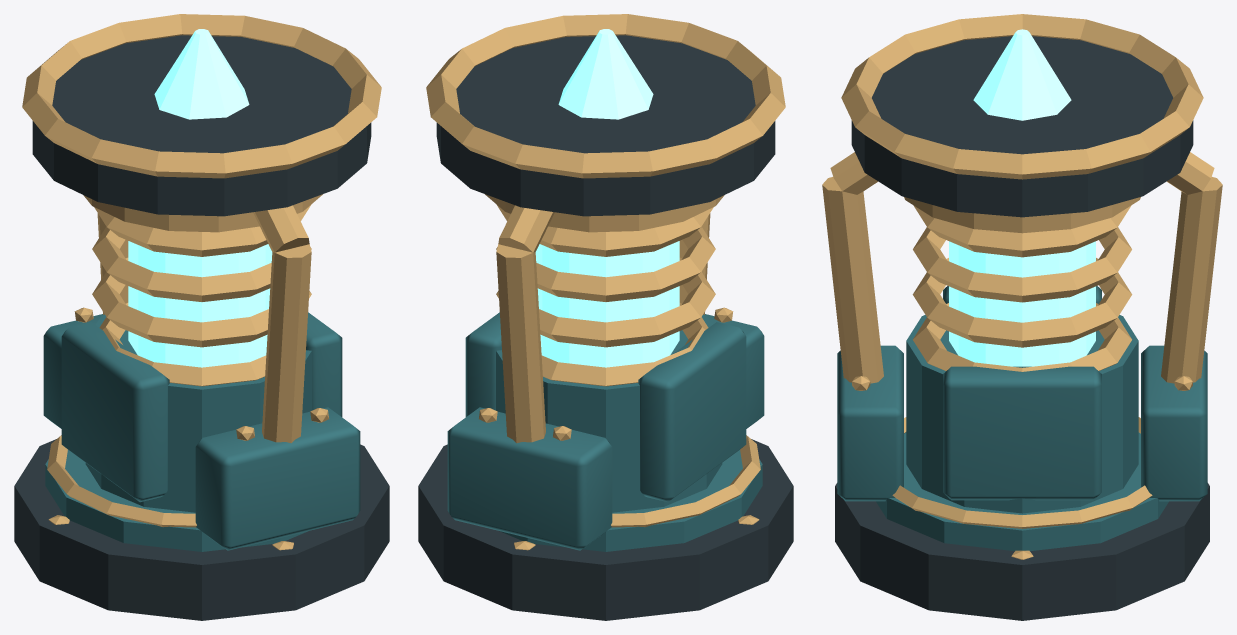
Rendered from evolution-arc-thunder.glb.
3 renders of one model, left to right at view 1: azimuth 30°, elevation 25°; view 2: azimuth 150°, elevation 25°; view 3: azimuth 270°, elevation 25°, orthographic.
Visible parts, largest first — view 1: evolution-arc-thunder / Structure | armory dark pressure ste, evolution-arc-thunder / Paint | armory deep Hanseatic enamel, evolution-arc-thunder / Brass | armory machined champagne br, evolution-arc-thunder / Lamp | armory pale electric mint, Runtime piston Y | evolution-arc-thunder; view 2: evolution-arc-thunder / Structure | armory dark pressure ste, evolution-arc-thunder / Paint | armory deep Hanseatic enamel, evolution-arc-thunder / Brass | armory machined champagne br, evolution-arc-thunder / Lamp | armory pale electric mint, Runtime piston Y | evolution-arc-thunder; view 3: evolution-arc-thunder / Structure | armory dark pressure ste, evolution-arc-thunder / Brass | armory machined champagne br, evolution-arc-thunder / Paint | armory deep Hanseatic enamel, evolution-arc-thunder / Lamp | armory pale electric mint, Runtime piston Y | evolution-arc-thunder.
Boxes of the visible parts, x1,y1,x2,y2 form: evolution-arc-thunder / Structure | armory dark pressure ste: [14, 35, 389, 620]; evolution-arc-thunder / Paint | armory deep Hanseatic enamel: [43, 312, 360, 551]; evolution-arc-thunder / Brass | armory machined champagne br: [22, 14, 381, 550]; evolution-arc-thunder / Lamp | armory pale electric mint: [128, 29, 272, 367]; Runtime piston Y | evolution-arc-thunder: [83, 194, 322, 232]; evolution-arc-thunder / Structure | armory dark pressure ste: [418, 35, 793, 620]; evolution-arc-thunder / Paint | armory deep Hanseatic enamel: [447, 312, 764, 551]; evolution-arc-thunder / Brass | armory machined champagne br: [426, 14, 785, 550]; evolution-arc-thunder / Lamp | armory pale electric mint: [535, 29, 679, 367]; Runtime piston Y | evolution-arc-thunder: [485, 194, 724, 232]; evolution-arc-thunder / Structure | armory dark pressure ste: [835, 36, 1209, 620]; evolution-arc-thunder / Brass | armory machined champagne br: [822, 14, 1222, 559]; evolution-arc-thunder / Paint | armory deep Hanseatic enamel: [837, 286, 1207, 551]; evolution-arc-thunder / Lamp | armory pale electric mint: [949, 29, 1095, 366]; Runtime piston Y | evolution-arc-thunder: [904, 197, 1140, 233].
Bounding box in the file's own units: 1.58 × 2.37 × 1.69.
